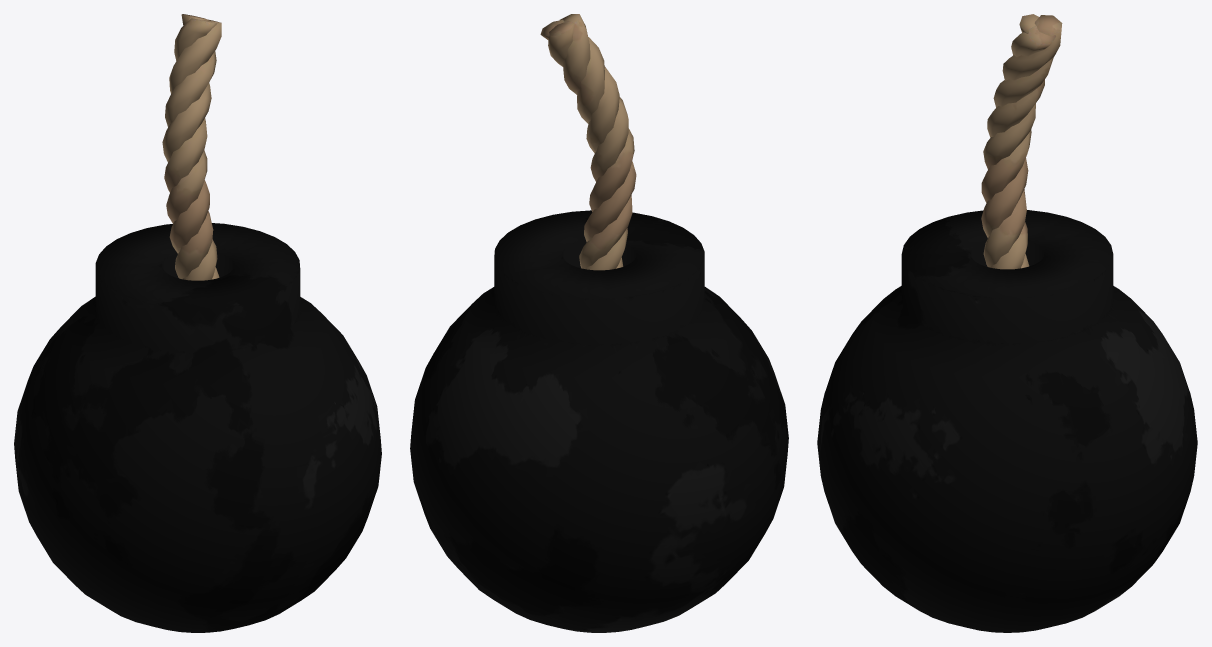
File: bomb-transformed.glb
3 views of the same model, side by side, from view 1: azimuth 30°, elevation 25°; view 2: azimuth 150°, elevation 25°; view 3: azimuth 270°, elevation 25° (orthographic). The views are drawn at different scales.
Parts seen in each view (by area): view 1: LE_Bomb; view 2: LE_Bomb; view 3: LE_Bomb.
Part boxes in pixels (x1,y1,x2,y2): LE_Bomb: [14, 14, 381, 632]; LE_Bomb: [410, 14, 788, 632]; LE_Bomb: [817, 14, 1197, 632].
Bounding box in the file's own units: 2 × 3.51 × 2.
1 material, 1 textured.
